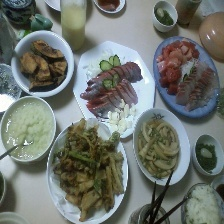rice: (179, 185, 224, 224)
